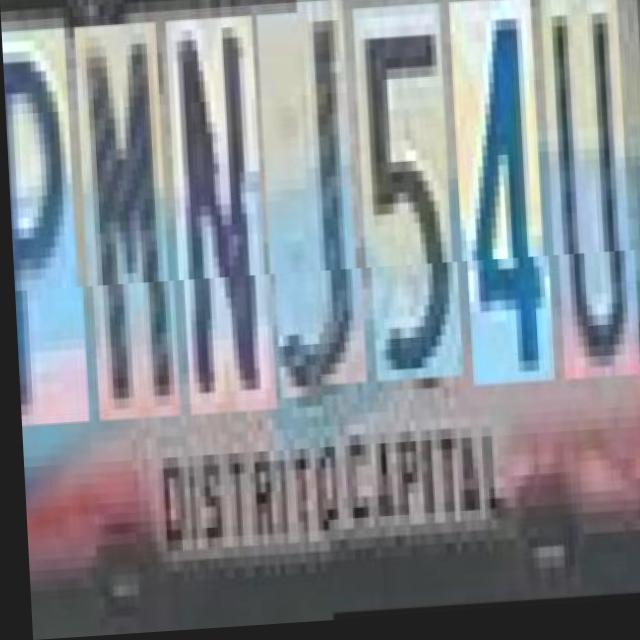4: (454, 14, 552, 401)
5: (358, 20, 460, 397)
j: (261, 15, 363, 402)
m: (78, 24, 176, 423)
n: (169, 19, 273, 418)
p: (2, 29, 85, 427)
u: (545, 10, 637, 396)
